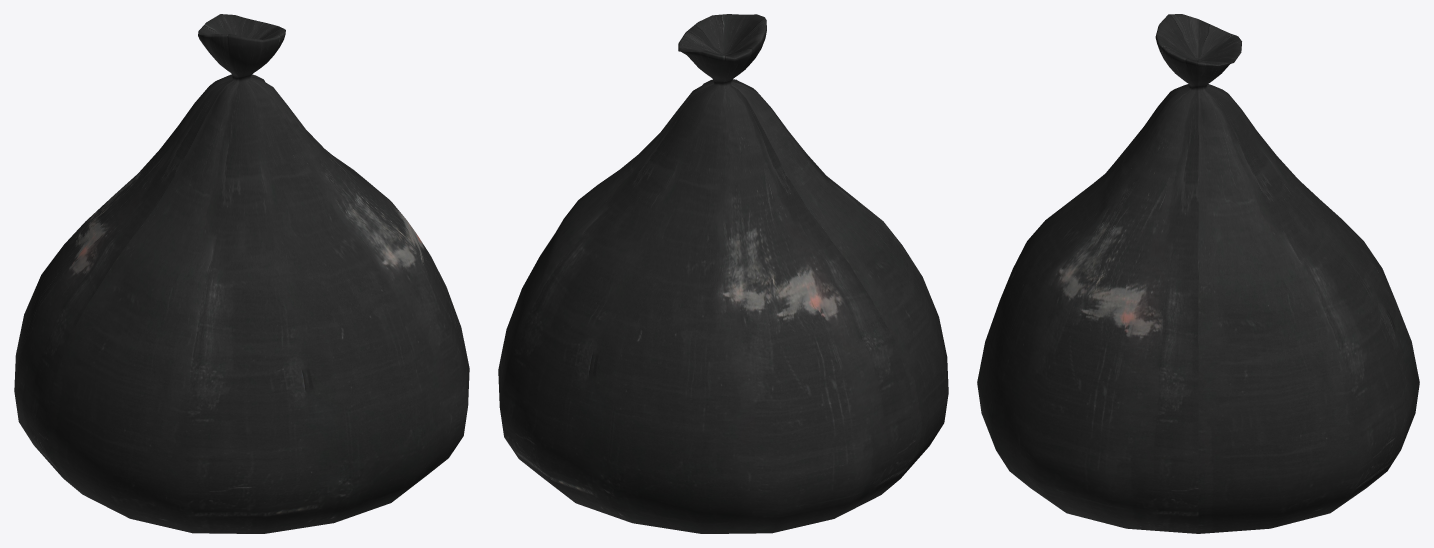
Rendered from trash_bag01.fbx.
The picture shows the model from 3 angles, left to right: view 1: azimuth 30°, elevation 25°; view 2: azimuth 150°, elevation 25°; view 3: azimuth 270°, elevation 25°; orthographic projection. The views are drawn at different scales.
Parts seen in each view (by area): view 1: trash_bag01; view 2: trash_bag01; view 3: trash_bag01.
Part boxes in pixels (box(x1,y1,x2,y2)): trash_bag01: box(14, 14, 469, 533); trash_bag01: box(498, 14, 948, 533); trash_bag01: box(977, 14, 1419, 533).
Size of the model in its own units: 2.77 by 3.11 by 2.77.
